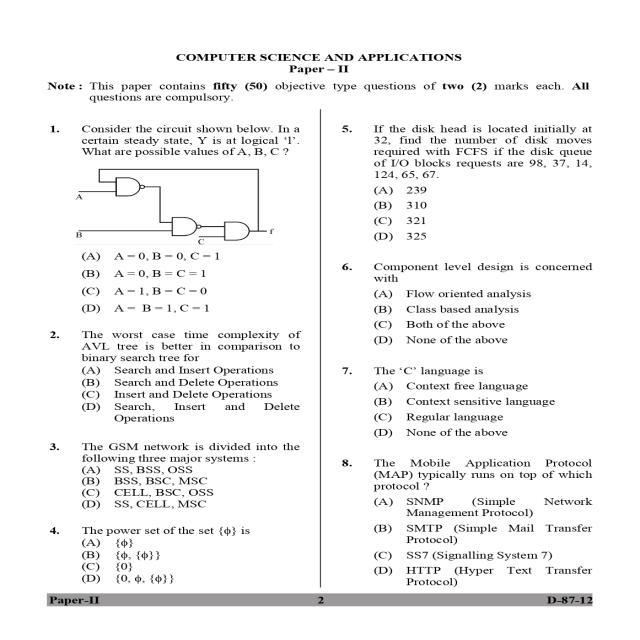Answer_Block: (331, 494, 601, 588), (331, 288, 602, 356), (44, 363, 307, 433), (331, 381, 601, 444), (44, 248, 306, 312), (331, 182, 601, 244), (44, 536, 307, 586), (44, 462, 306, 512)
Instruction: (42, 78, 601, 112)
Question_Answer_Block: (44, 118, 306, 312), (331, 453, 601, 588), (331, 118, 601, 244), (44, 324, 307, 432), (331, 258, 602, 356), (331, 362, 601, 444), (44, 438, 306, 512), (44, 518, 307, 586)
Question_Block: (44, 118, 306, 248), (331, 118, 601, 183), (331, 453, 601, 495), (44, 324, 307, 362), (331, 258, 602, 287), (44, 439, 306, 462), (331, 362, 601, 382), (44, 518, 307, 536)
Question_Paper_Area: (332, 118, 602, 588), (44, 118, 307, 586)
